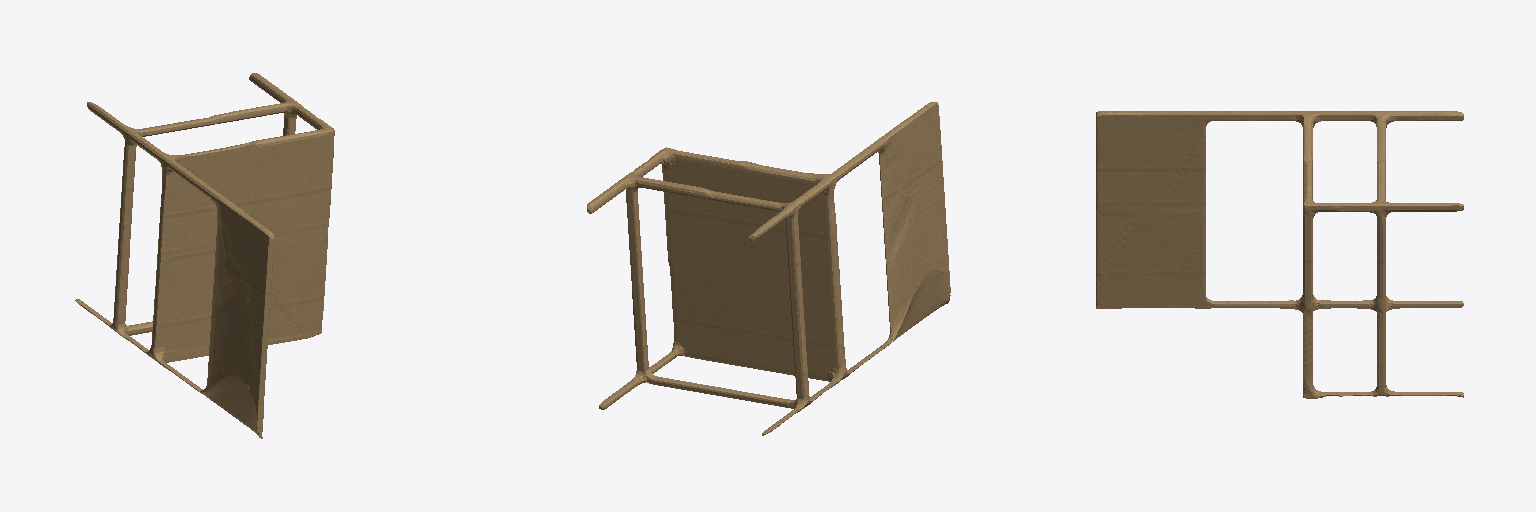
3 renders of one model, left to right at view 1: azimuth 30°, elevation 25°; view 2: azimuth 150°, elevation 25°; view 3: azimuth 270°, elevation 25°, orthographic.
Bounding box in the file's own units: 0.4419 × 0.4956 × 0.7706.
Materials: 1 (1 with a texture image).